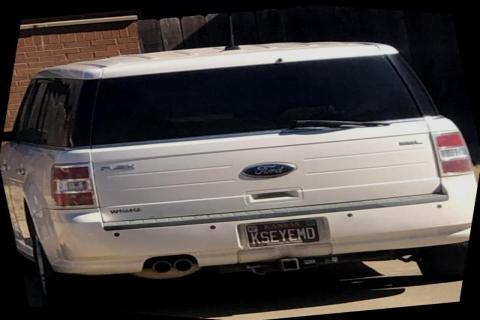LicensePlate: (242, 217, 318, 247)
